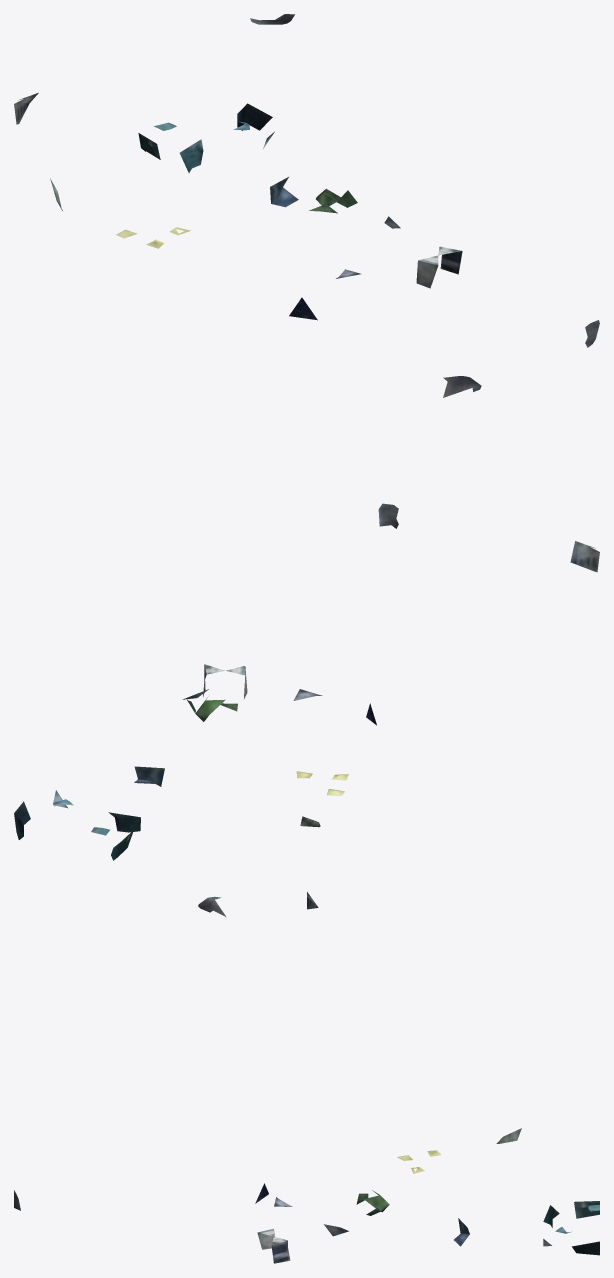
The picture shows the model from 3 angles, top to bottom: view 1: azimuth 30°, elevation 25°; view 2: azimuth 150°, elevation 25°; view 3: azimuth 270°, elevation 25°; orthographic projection. The views are drawn at different scales.
Parts seen in each view (by area): view 1: 3043627270436162660_1; view 2: 3043627270436162660_1; view 3: 3043627270436162660_1.
Part boxes in pixels (<box>): 3043627270436162660_1: <box>14,14,599,347</box>; 3043627270436162660_1: <box>14,376,599,860</box>; 3043627270436162660_1: <box>14,892,599,1263</box>.
Bounding box in the file's own units: 51.54 × 39.43 × 76.51.
1 material, 1 textured.
